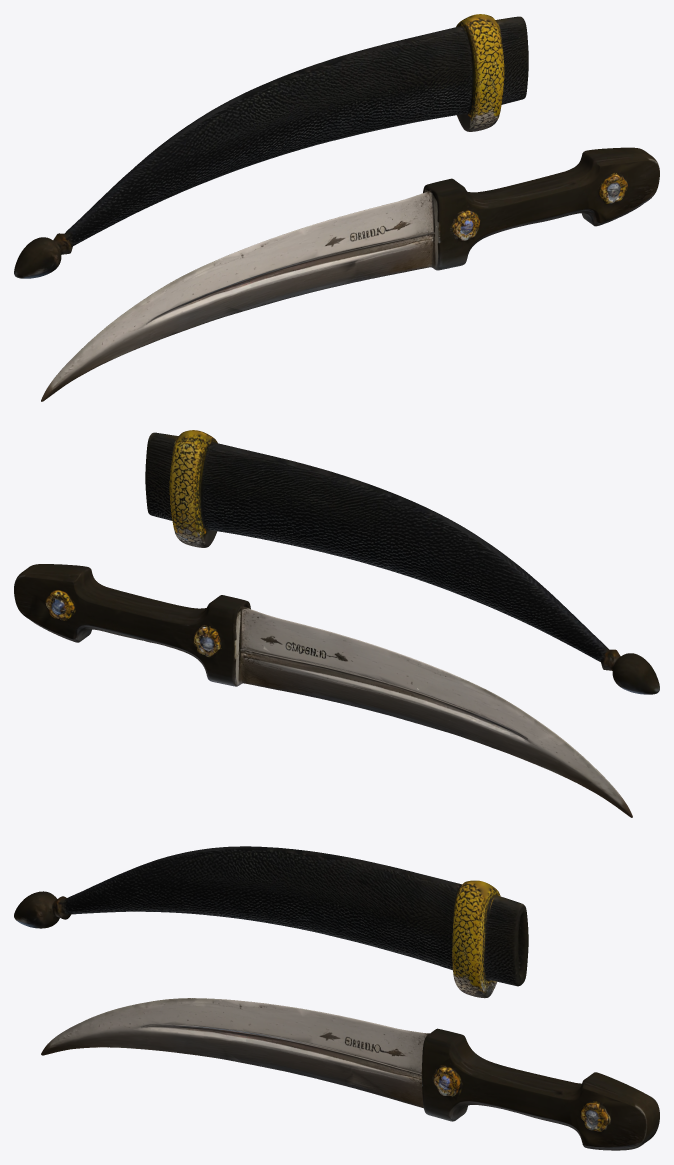
File: 060-kinzhal-s-chernymi-nozhnami.glb
3 renders of one model, top to bottom at view 1: azimuth 30°, elevation 25°; view 2: azimuth 150°, elevation 25°; view 3: azimuth 330°, elevation 25°, orthographic.
Visible parts, largest first — view 1: node_0; view 2: node_0; view 3: node_0.
Boxes of the visible parts, <box> form: node_0: <box>14,14,659,401</box>; node_0: <box>14,430,659,817</box>; node_0: <box>14,846,659,1150</box>.
Size of the model in its own units: 1.18 by 0.4933 by 0.0906.
1 material, 1 textured.
